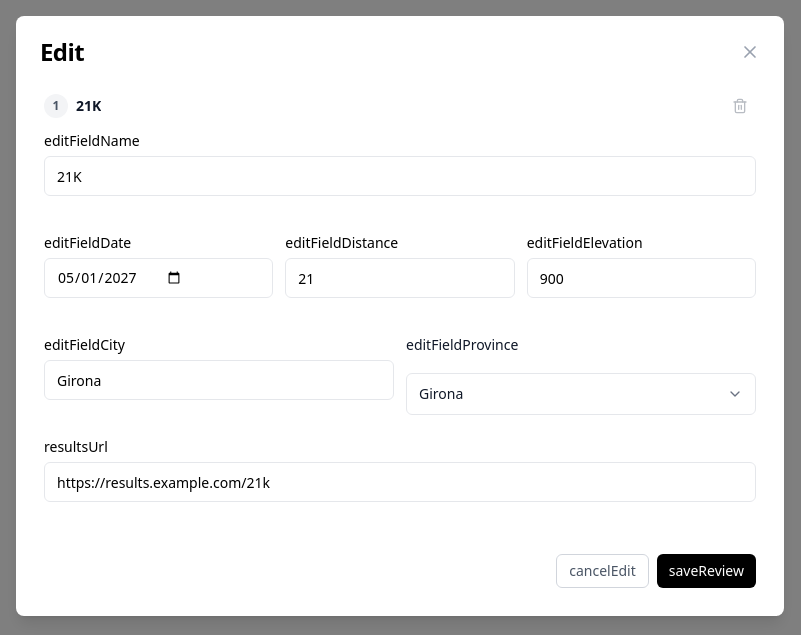
it: EventRacesEditModal results URLs › shows saved results and validates the protocol before saving
The width and height of the screenshot is (801, 635).
(page scrolled)
Replace the text in the field with placeholder "resultsUrlPlaceholder" with "javascript:alert(1)": coordinates (400, 482) x1=44 y1=462 x2=756 y2=502
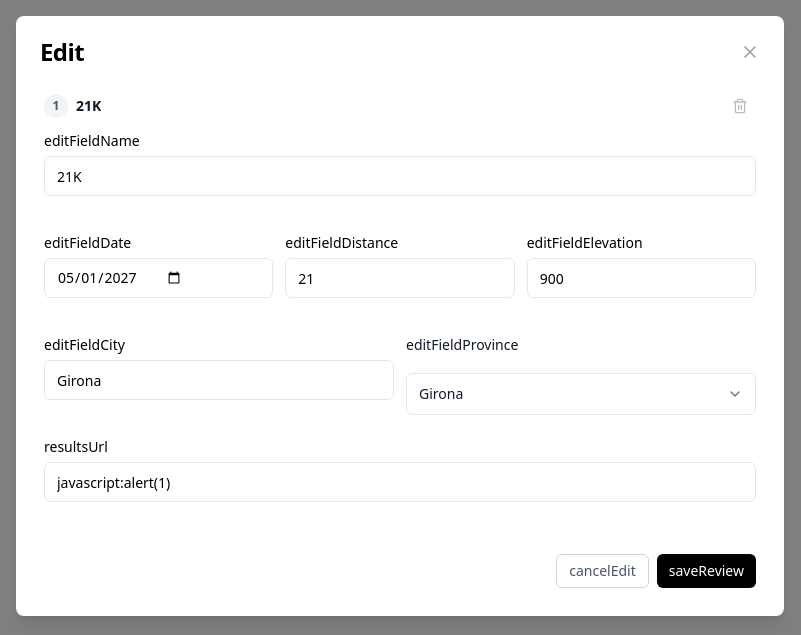
Click the button "saveReview": coordinates (706, 571) x1=657 y1=554 x2=756 y2=588
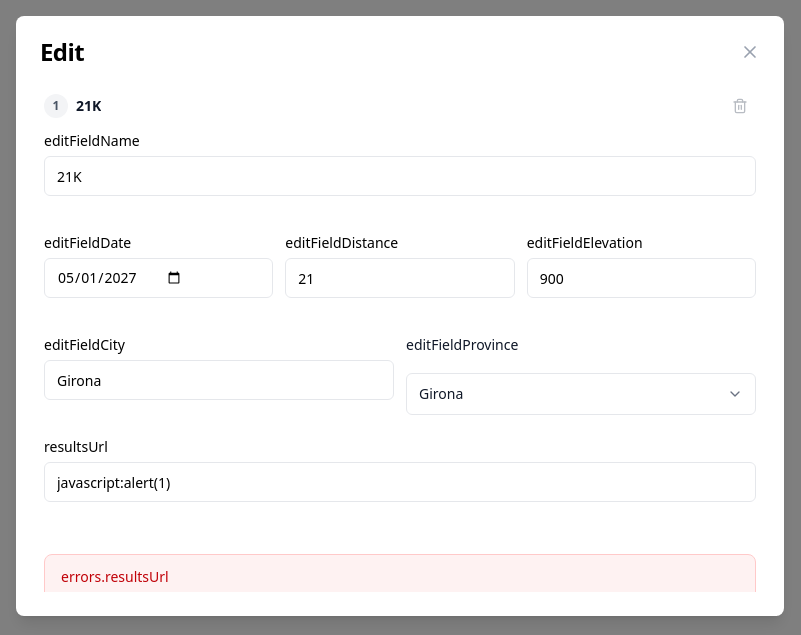
Now the text "errors.resultsUrl" is shown, box x1=44 y1=554 x2=756 y2=592
